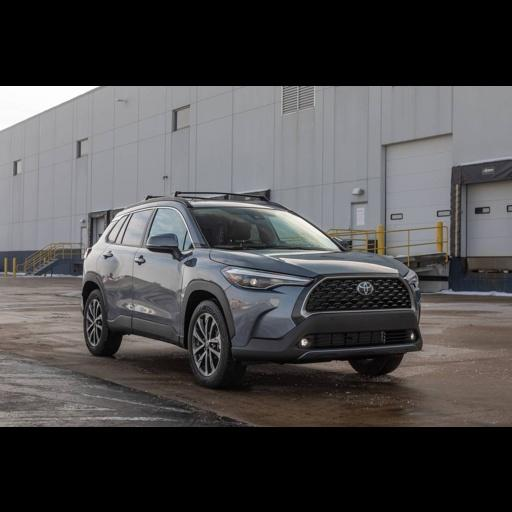suv: (80, 192, 421, 387)
